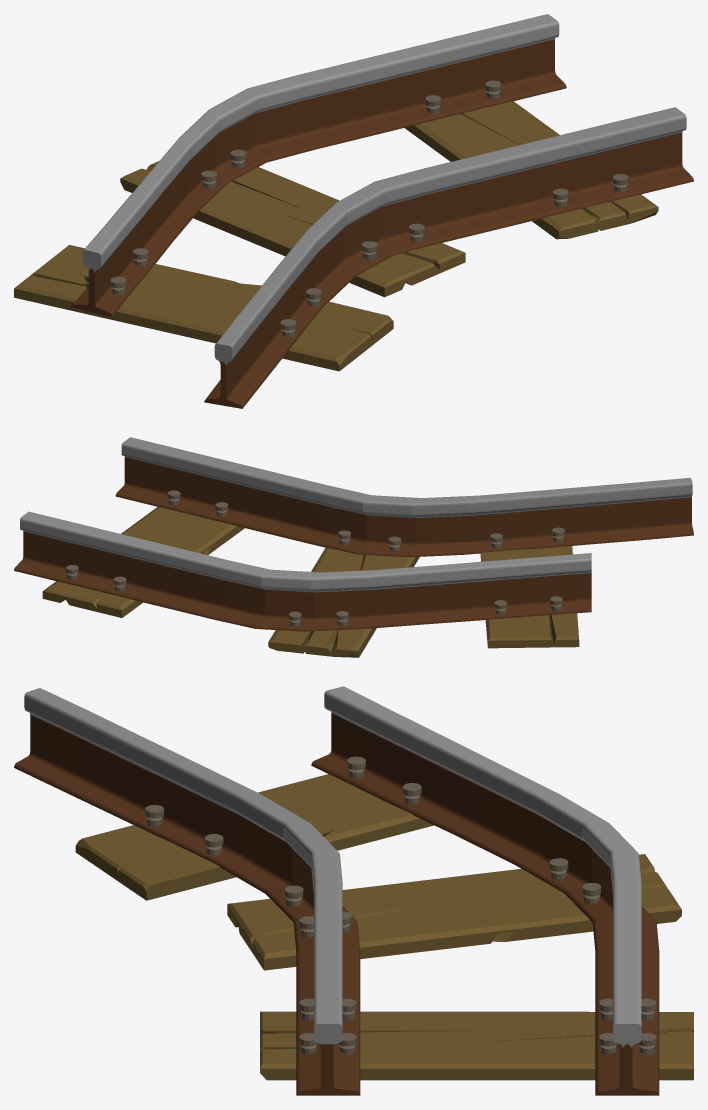
File: ray_tahta_egimli.fbx
3 views of the same model, one above another, from view 1: azimuth 30°, elevation 25°; view 2: azimuth 150°, elevation 25°; view 3: azimuth 270°, elevation 25° (orthographic). The views are drawn at different scales.
Visible parts, largest first — view 1: Cube, Cube.002, Cylinder.003, Cube.003, Cylinder.022; view 2: Cube, Cube.002, Cylinder.022, Cube.003, Cylinder.003; view 3: Cube, Cube.002, Cylinder.022, Cube.003, Cylinder.003.
Boxes of the visible parts, left/top/right/bottom form: Cube: left=71, top=14, right=566, bottom=316; Cube.002: left=204, top=107, right=693, bottom=408; Cylinder.003: left=14, top=245, right=393, bottom=371; Cube.003: left=120, top=149, right=465, bottom=297; Cylinder.022: left=405, top=80, right=658, bottom=239; Cube: left=14, top=511, right=591, bottom=631; Cube.002: left=115, top=437, right=693, bottom=557; Cylinder.022: left=42, top=490, right=244, bottom=617; Cube.003: left=268, top=530, right=419, bottom=657; Cylinder.003: left=480, top=527, right=579, bottom=648; Cube: left=311, top=686, right=659, bottom=1095; Cube.002: left=14, top=688, right=360, bottom=1095; Cylinder.022: left=260, top=998, right=693, bottom=1080; Cube.003: left=227, top=854, right=681, bottom=970; Cylinder.003: left=75, top=756, right=433, bottom=900.
Bounding box in the file's own units: 731 × 82.28 × 594.
